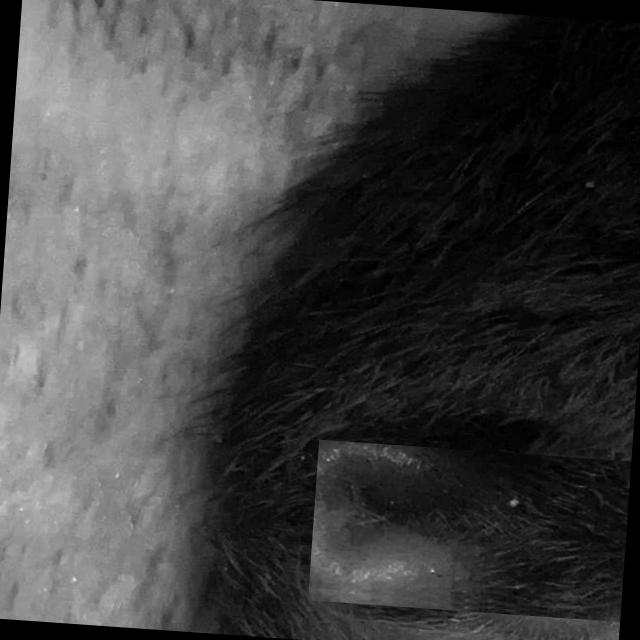fem: (308, 438, 631, 620)
